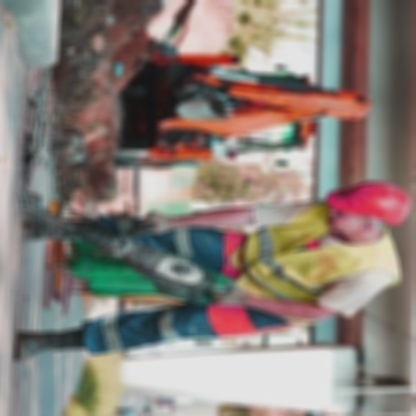vest: (205, 199, 409, 337)
